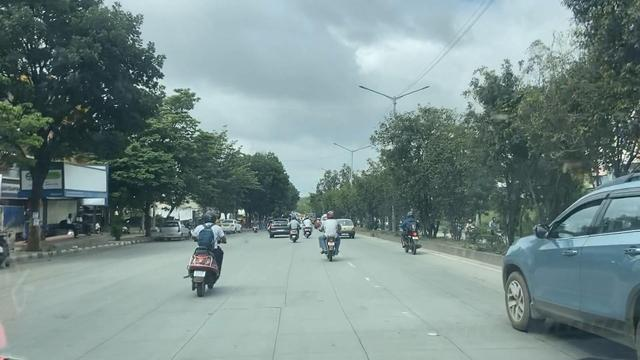LMV: (315, 203, 353, 273)
